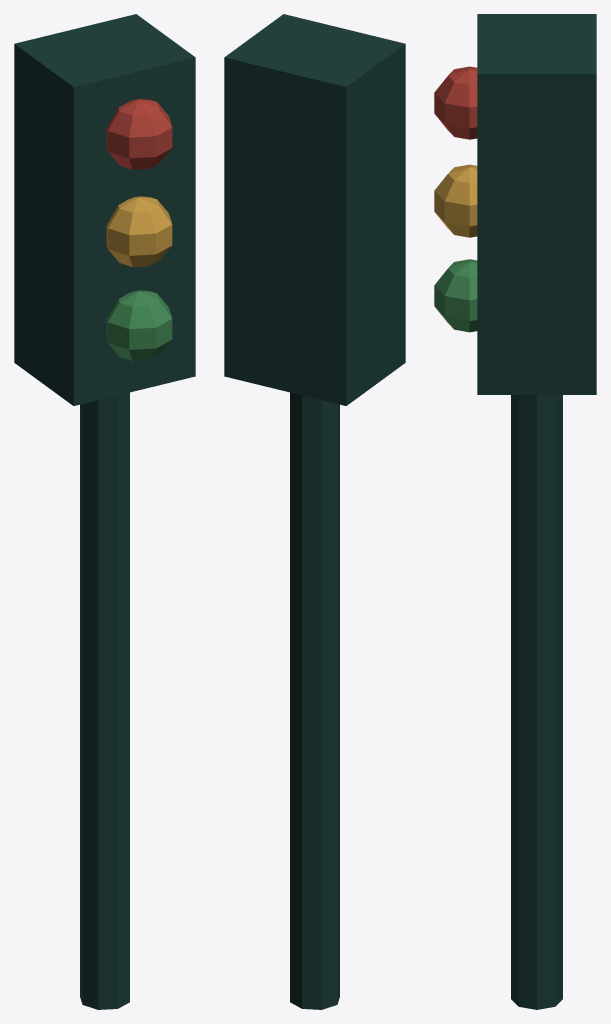
Rendered from prop_traffic_light.glb.
The picture shows the model from 3 angles, left to right: view 1: azimuth 30°, elevation 25°; view 2: azimuth 150°, elevation 25°; view 3: azimuth 270°, elevation 25°; orthographic projection.
Parts seen in each view (by area): view 1: rough; view 2: rough; view 3: rough.
Boxes of the visible parts, <box> form: rough: <box>14,14,195,1009</box>; rough: <box>224,14,405,1009</box>; rough: <box>434,14,596,1009</box>.
Size of the model in its own units: 0.38 by 2.83 by 0.4351.
